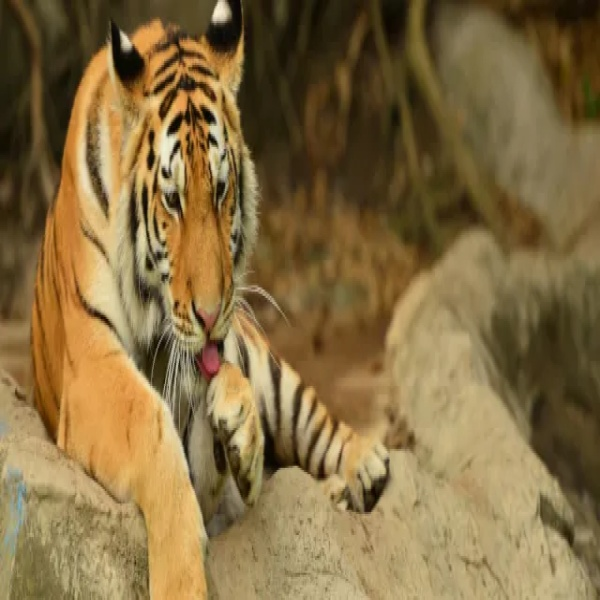Tiger: (27, 2, 397, 598)
